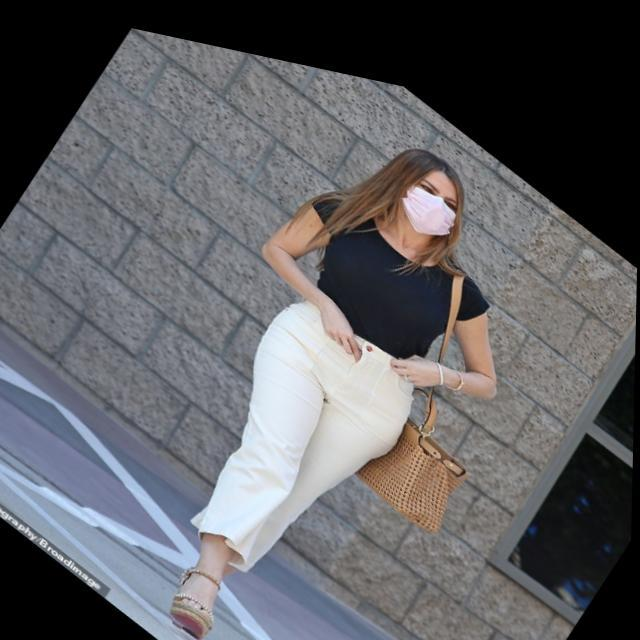Nonhelmet: (389, 144, 458, 238)
